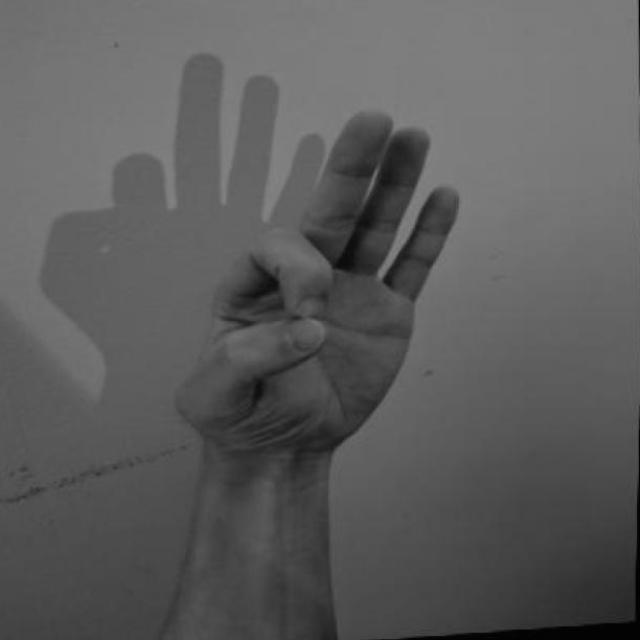F: (138, 95, 520, 522)
